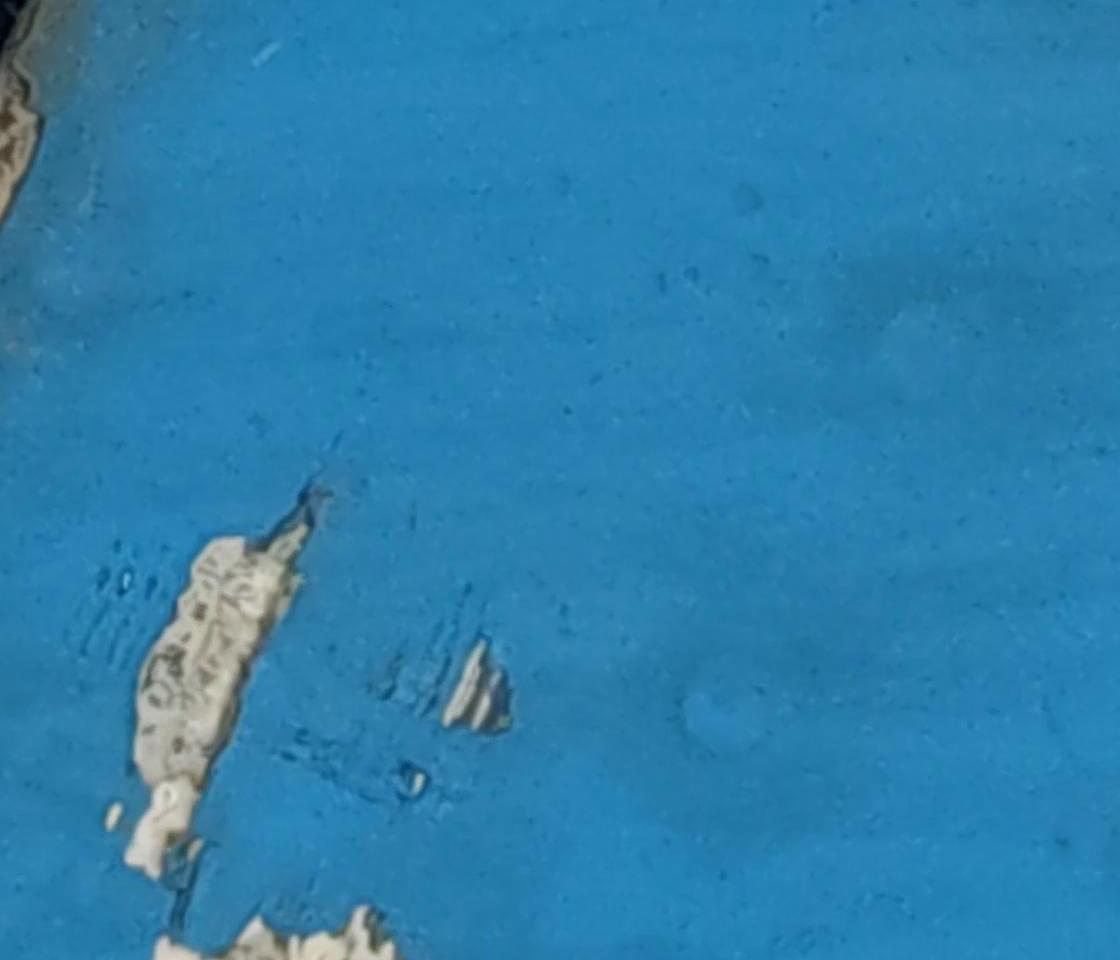paint_peel: (123, 508, 307, 882), (150, 905, 399, 960), (440, 638, 522, 738)
